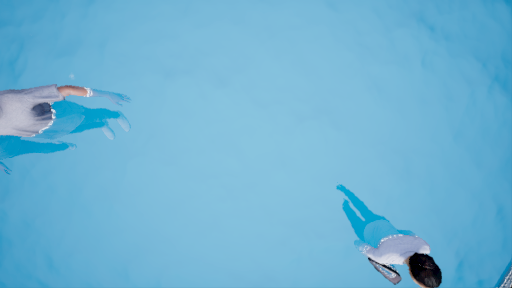person: (1, 78, 148, 171), (332, 181, 446, 286)
